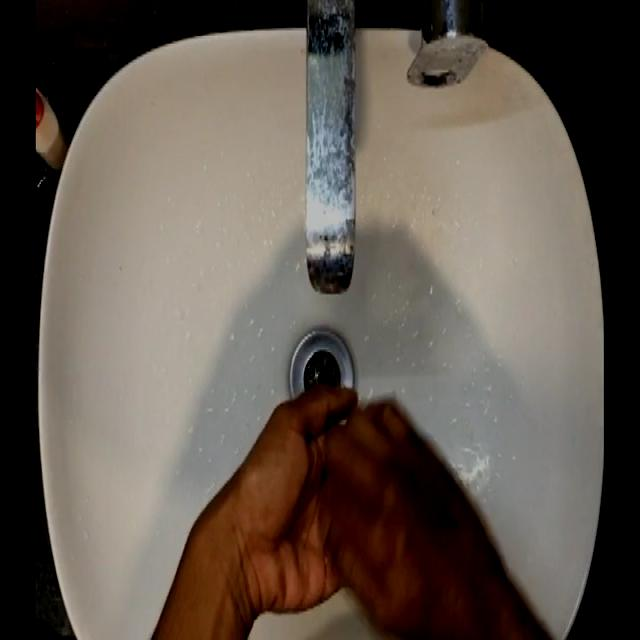step_4: (218, 372, 469, 623)
